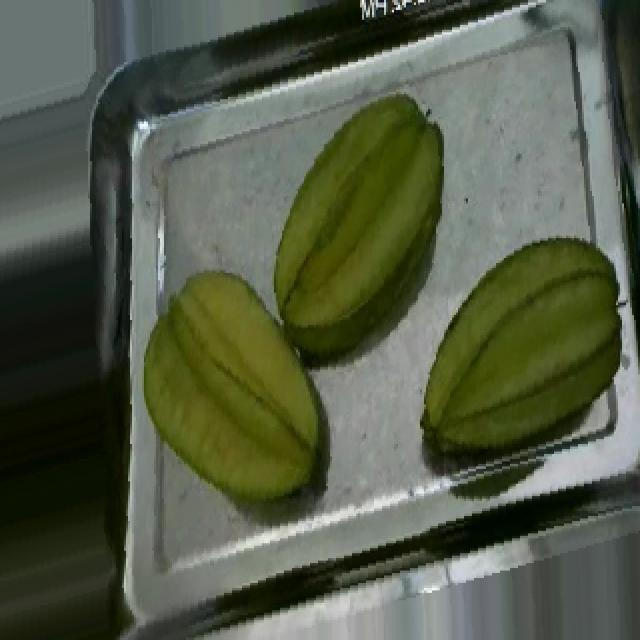fruit: (244, 77, 474, 367), (398, 213, 640, 479), (130, 246, 350, 538)
